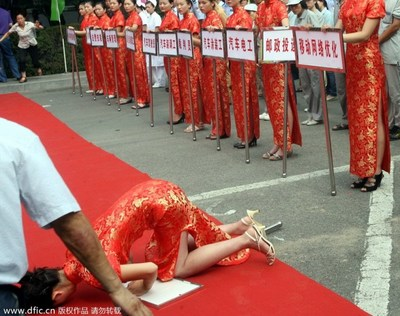10+: (1, 1, 398, 314)
down: (28, 167, 274, 310)
